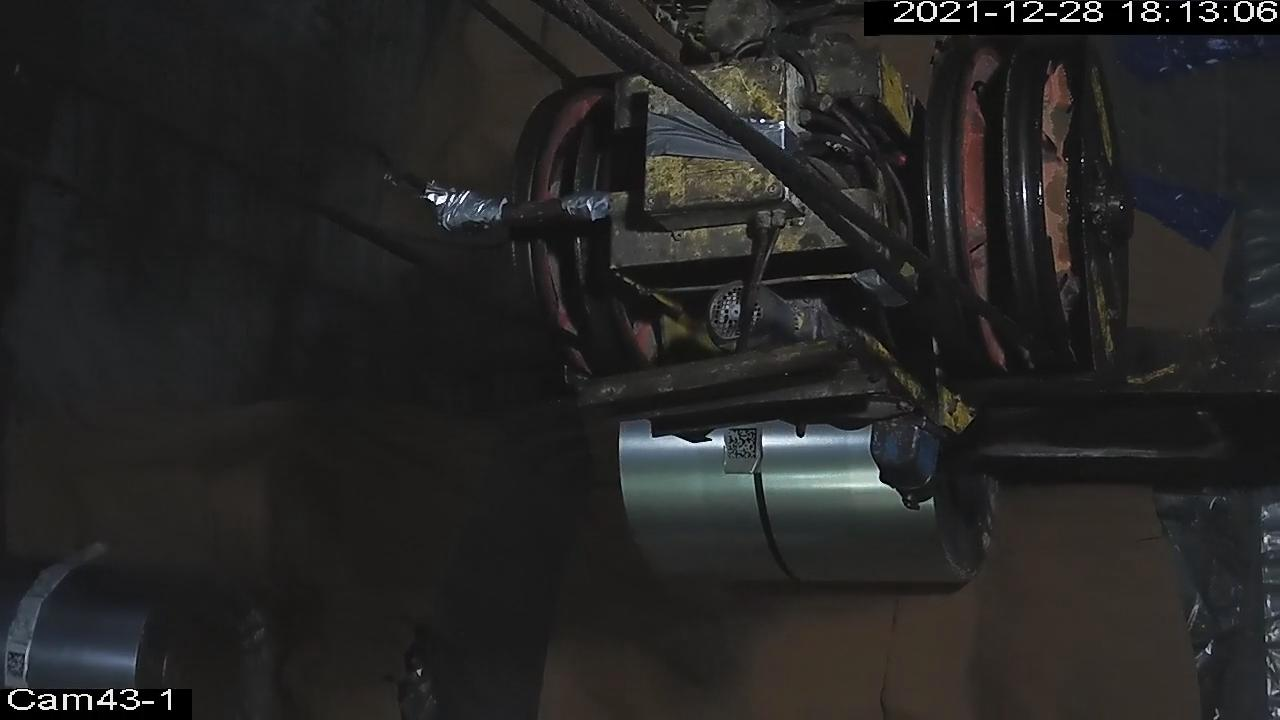data matrix: (724, 426, 760, 463), (5, 650, 29, 681)
